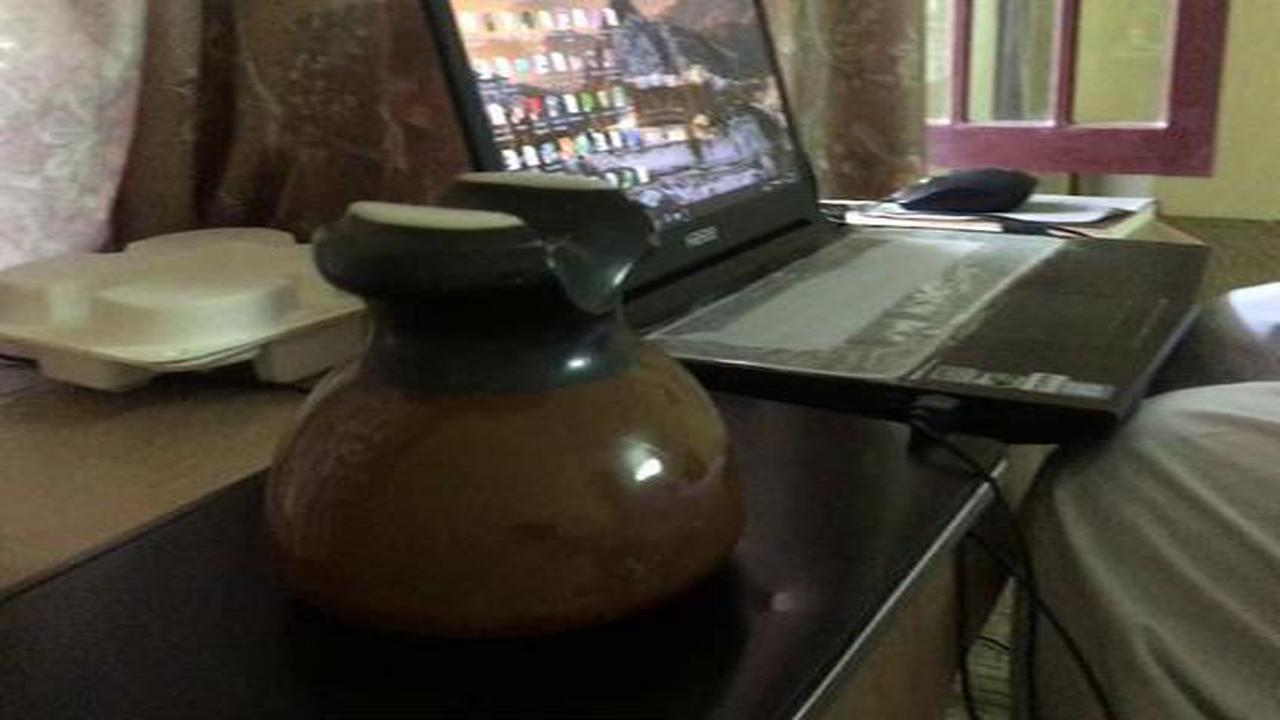insulator_pin: (247, 156, 767, 644)
